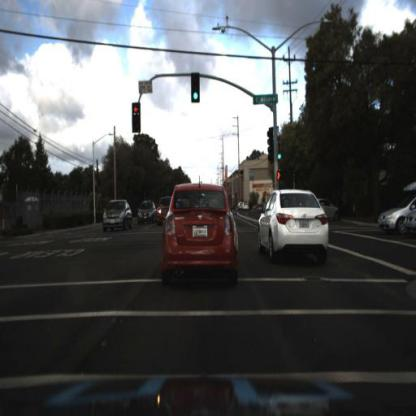car: (163, 181, 240, 297), (256, 188, 331, 266), (380, 202, 416, 240), (101, 196, 133, 234), (307, 197, 343, 222), (157, 189, 180, 228), (135, 198, 156, 231)
trafficLight: (191, 73, 202, 105), (277, 141, 285, 162)
trafficLight-RedLeft: (133, 103, 142, 134)
